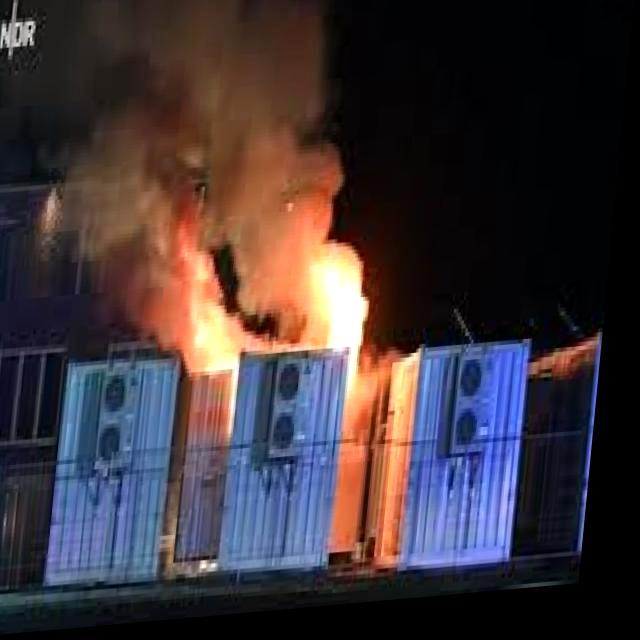fire: (112, 168, 380, 512)
